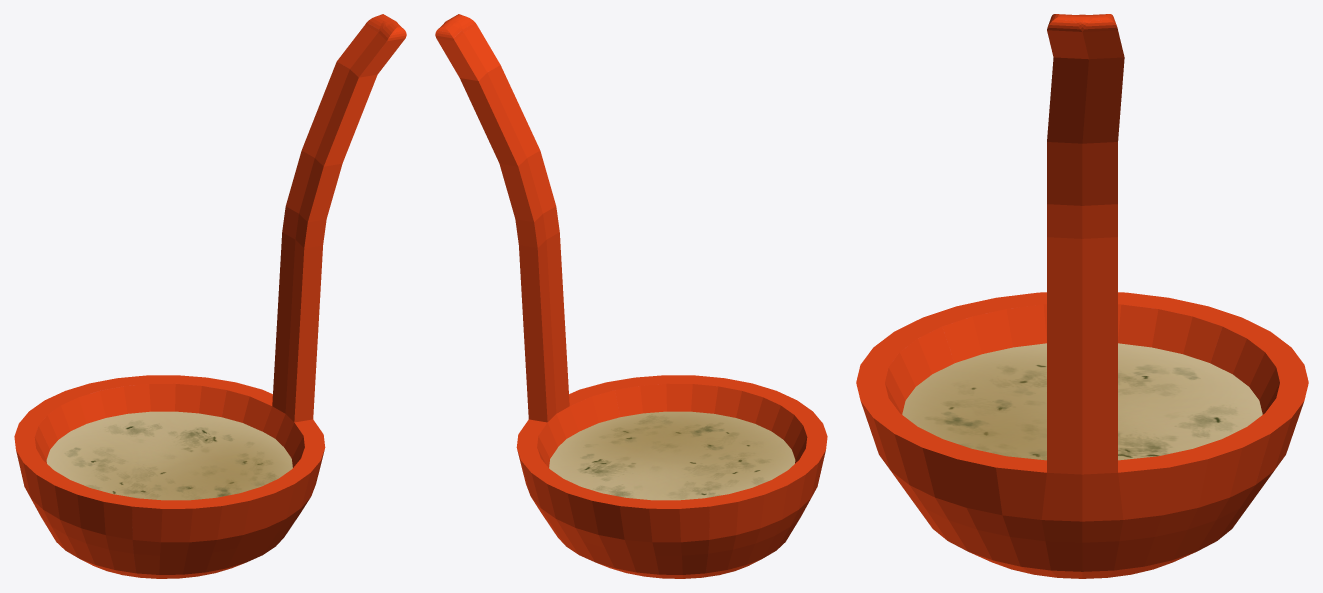
File: cucharon con rondon.fbx
3 views of the same model, side by side, from view 1: azimuth 30°, elevation 25°; view 2: azimuth 150°, elevation 25°; view 3: azimuth 270°, elevation 25° (orthographic). The views are drawn at different scales.
Visible parts, largest first — view 1: Cylinder, Cylinder.001; view 2: Cylinder, Cylinder.001; view 3: Cylinder, Cylinder.001.
Boxes of the visible parts, box(x1,y1,x2,y2) form: Cylinder: box(14, 14, 406, 578); Cylinder.001: box(46, 411, 292, 500); Cylinder: box(435, 14, 827, 578); Cylinder.001: box(549, 411, 795, 500); Cylinder: box(856, 14, 1308, 578); Cylinder.001: box(902, 343, 1262, 460).
Size of the model in its own units: 13.65 by 17.25 by 10.53.
Materials: 2 (2 with a texture image).
